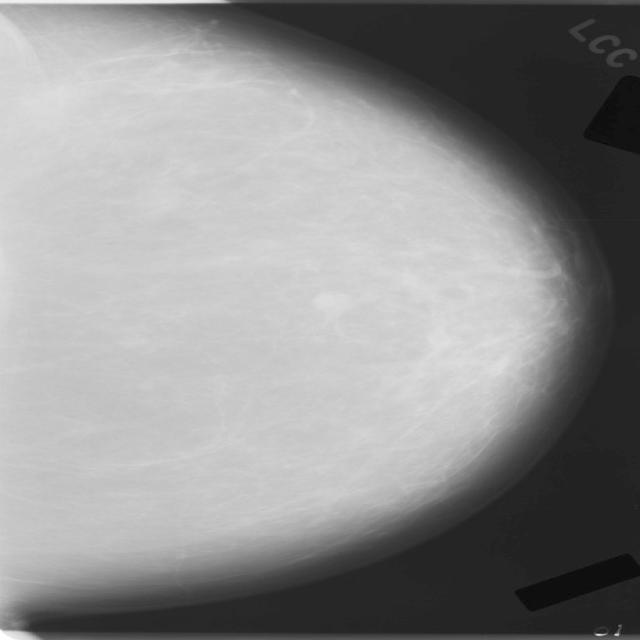tumour: (310, 291, 350, 315)
